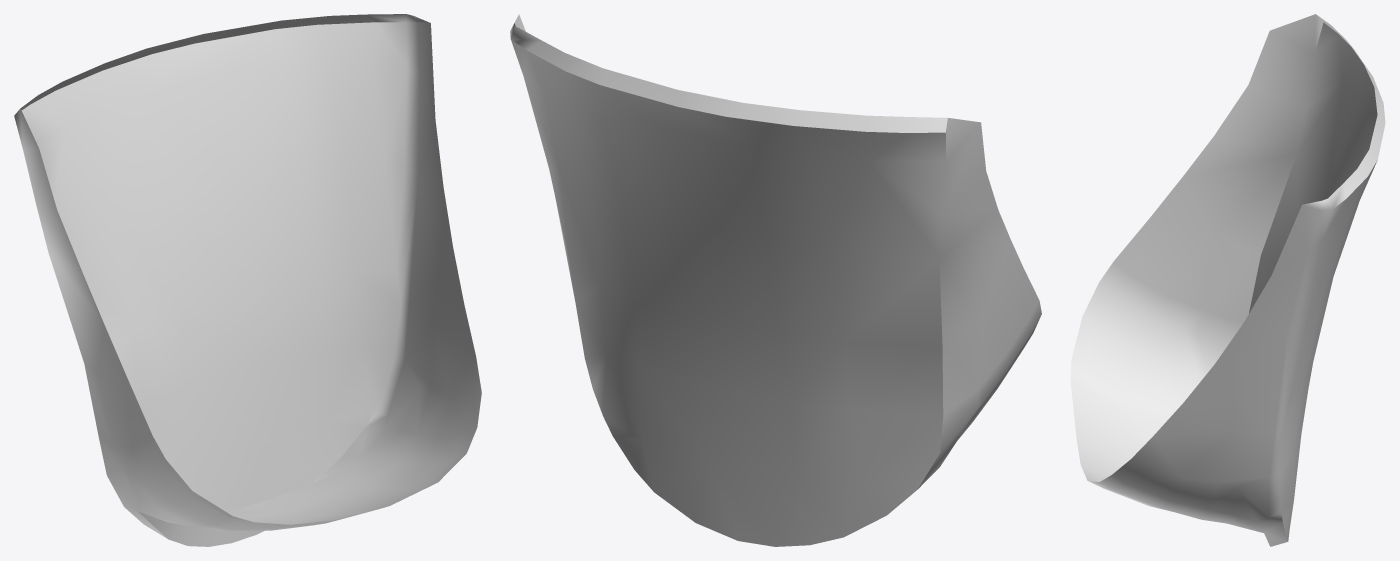
3 views of the same model, side by side, from view 1: azimuth 30°, elevation 25°; view 2: azimuth 150°, elevation 25°; view 3: azimuth 270°, elevation 25° (orthographic). The views are drawn at different scales.
Bounding box in the file's own units: 0.0304 × 0.0326 × 0.0218.
Materials: 1 (1 with a texture image).
